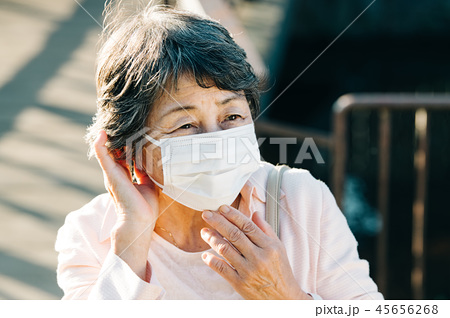mask: (160, 132, 269, 215)
